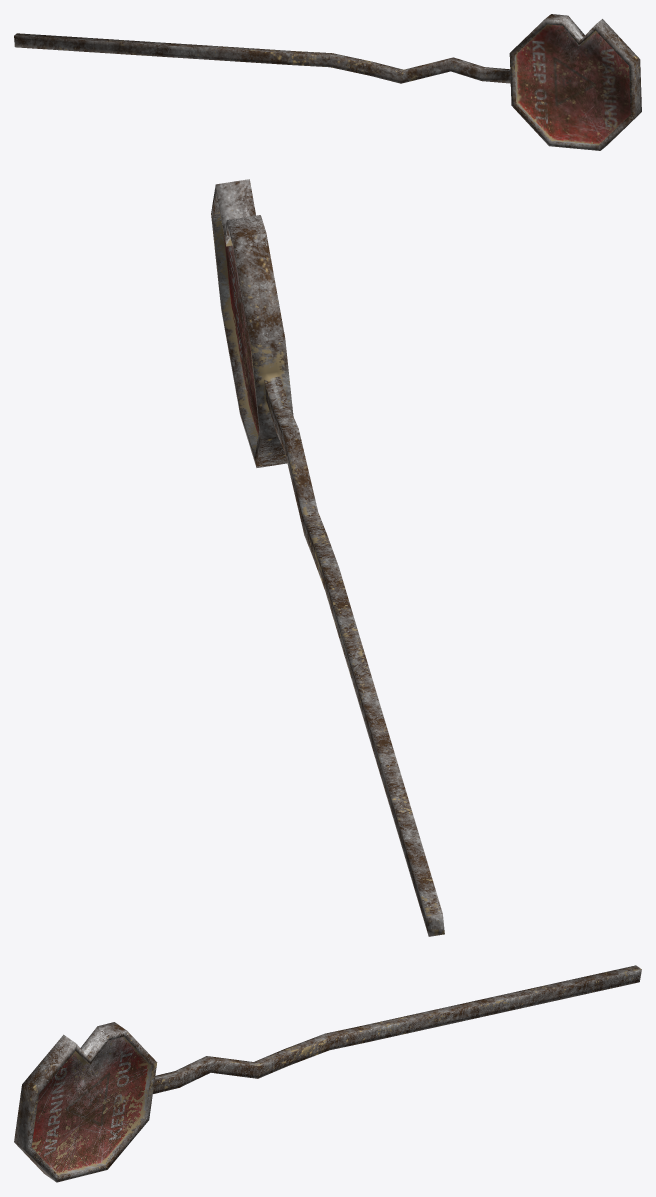
File: Anim_idle_senyal_objetos.0052.obj
3 renders of one model, top to bottom at view 1: azimuth 30°, elevation 25°; view 2: azimuth 150°, elevation 25°; view 3: azimuth 270°, elevation 25°, orthographic. The views are drawn at different scales.
Size of the model in its own units: 8 by 2.59 by 9.95.
